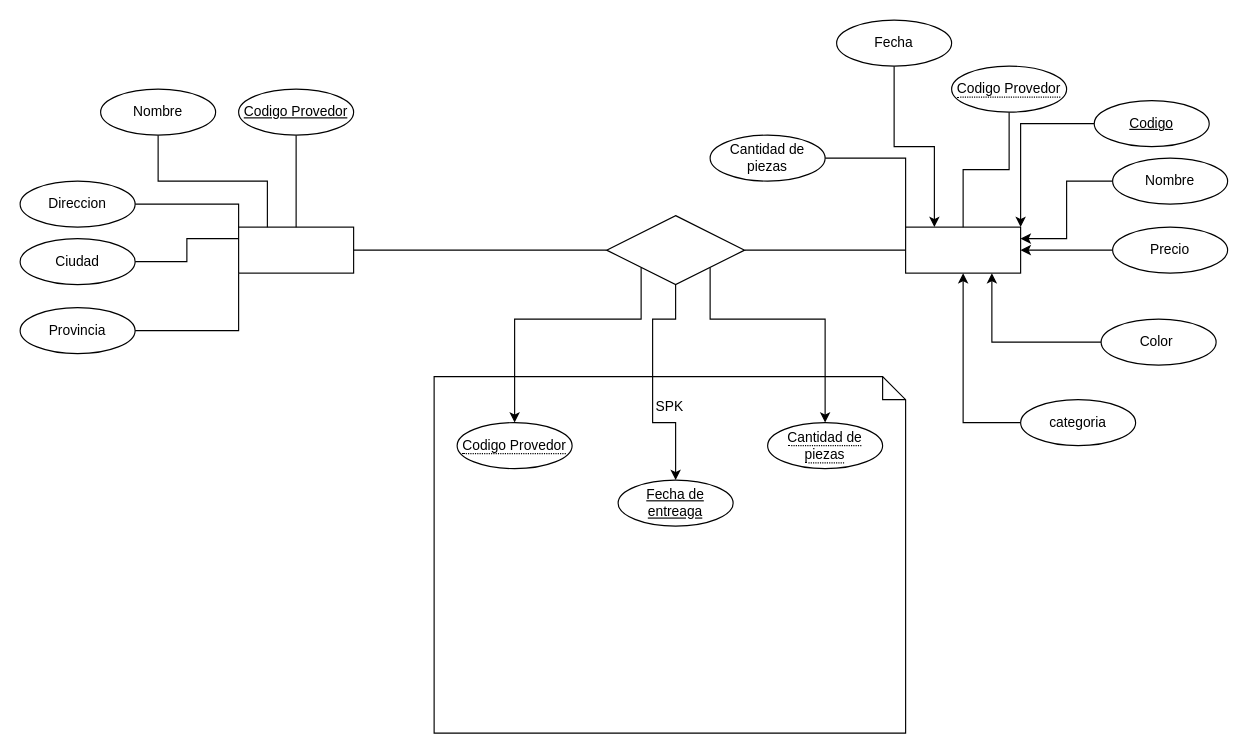
Some shapes in this 1248 by 753 pixel diagram are drawn without their labels. The shapes that lost their labels are listed below. From the top down, each one's centre as x and y in pixels, then its label:
point (295, 249): provedor
point (675, 249): Sumistra
point (962, 249): piezas
